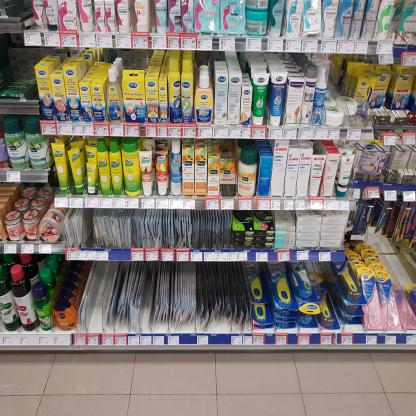Void: (7, 38, 34, 76), (93, 264, 101, 326)
